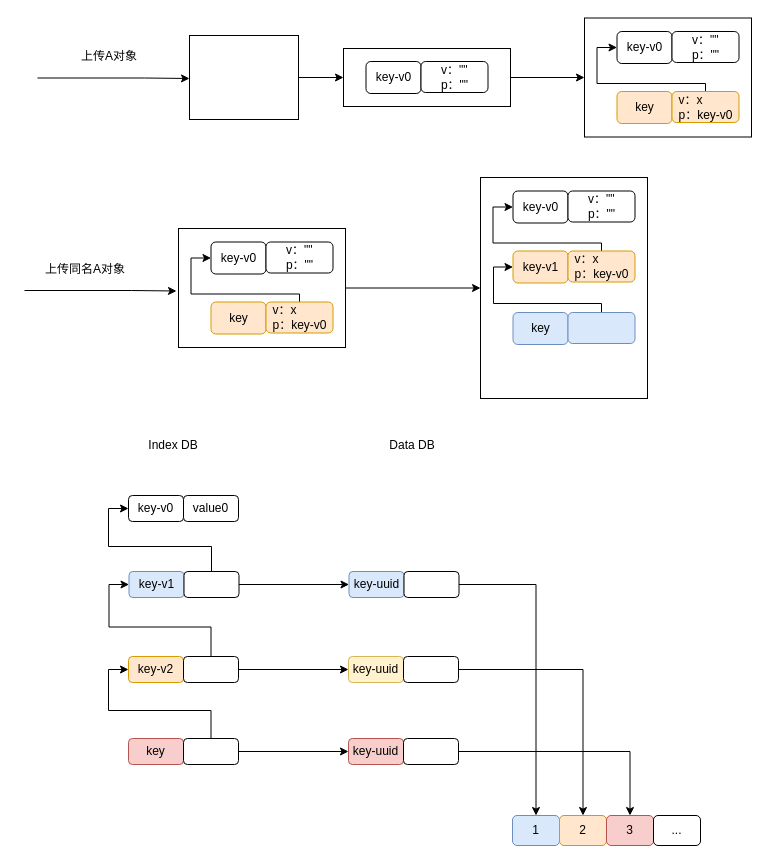
This 769x863 diagram has some shape labels left out. The shapes that lost their labels are listed below. From the top down, each one's box as (x1, y1, x2, y2) in pixels, then its label:
(567, 312, 635, 344): v：y p：key-v1
(183, 570, 239, 598): value1
(403, 570, 459, 598): value11
(182, 656, 238, 682): value2
(402, 656, 458, 682): value22
(182, 738, 238, 764): value3
(402, 738, 458, 764): value33
